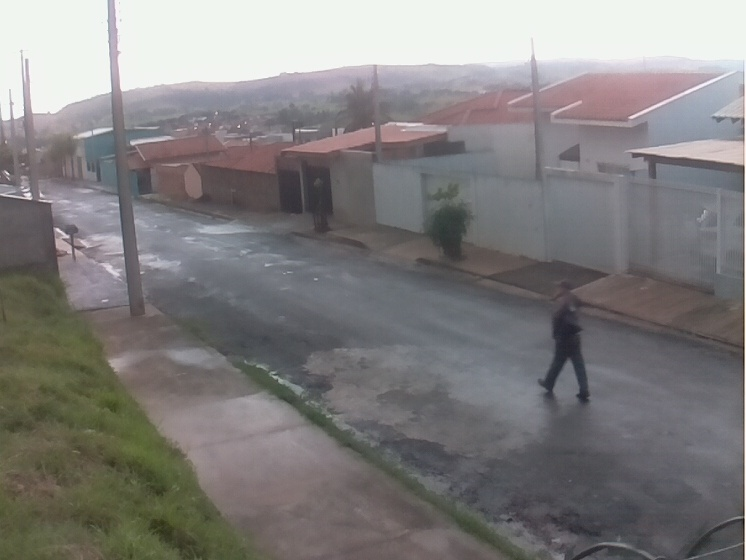person: (536, 279, 592, 400)
